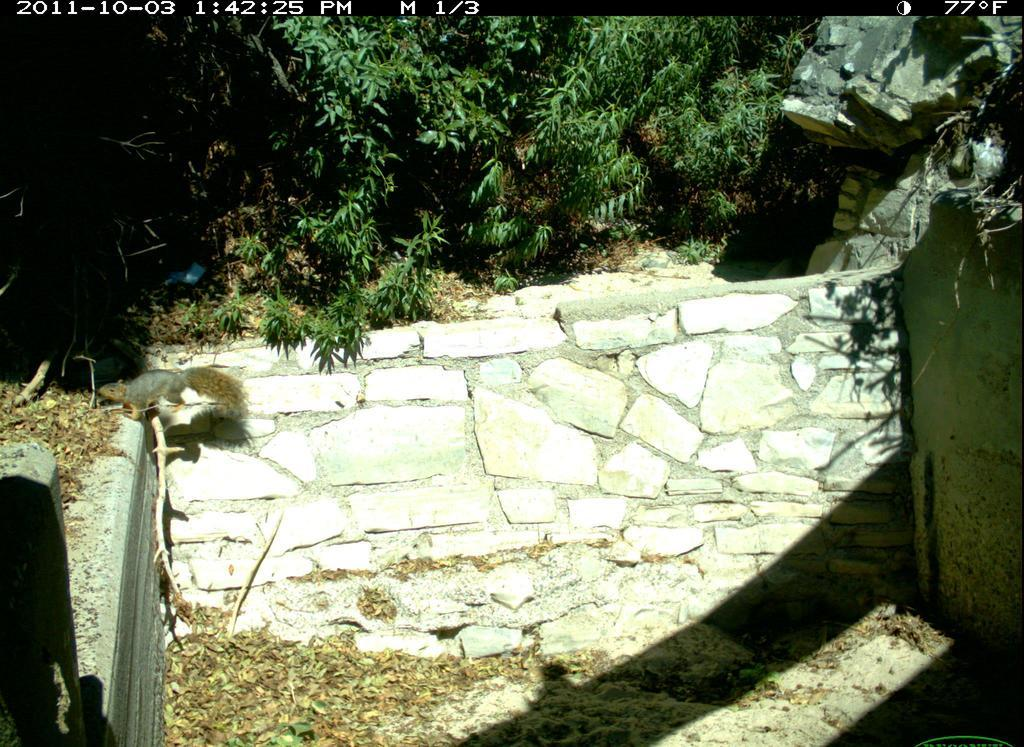squirrel: (97, 364, 249, 438)
